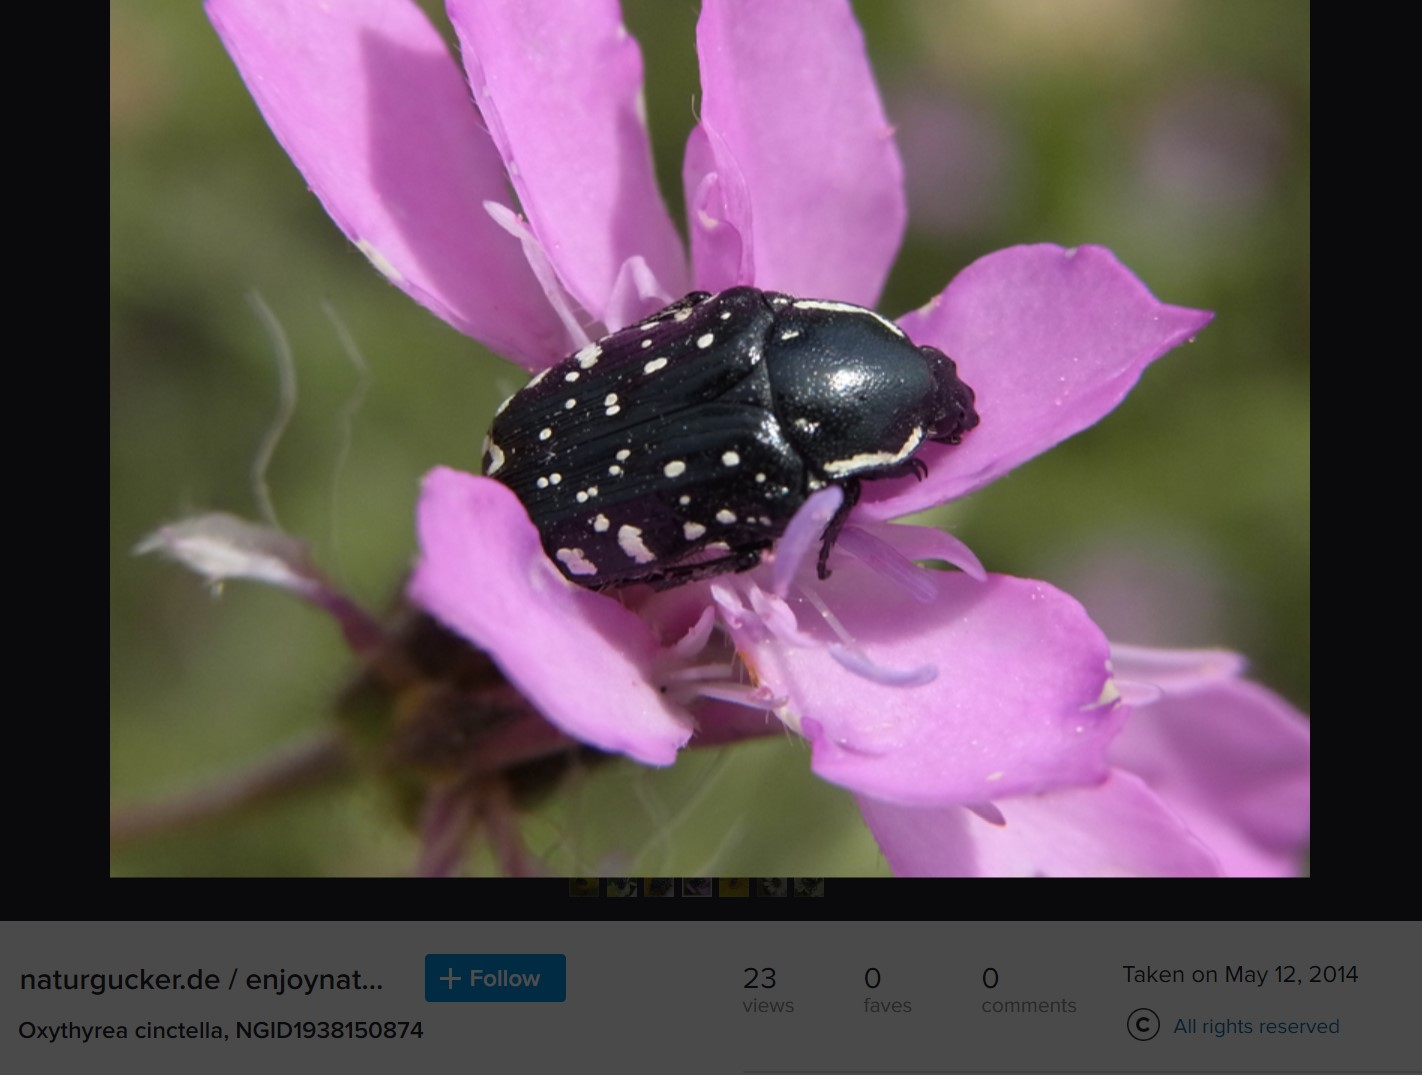Oxythyrea_cinctella: (485, 276, 983, 608)
